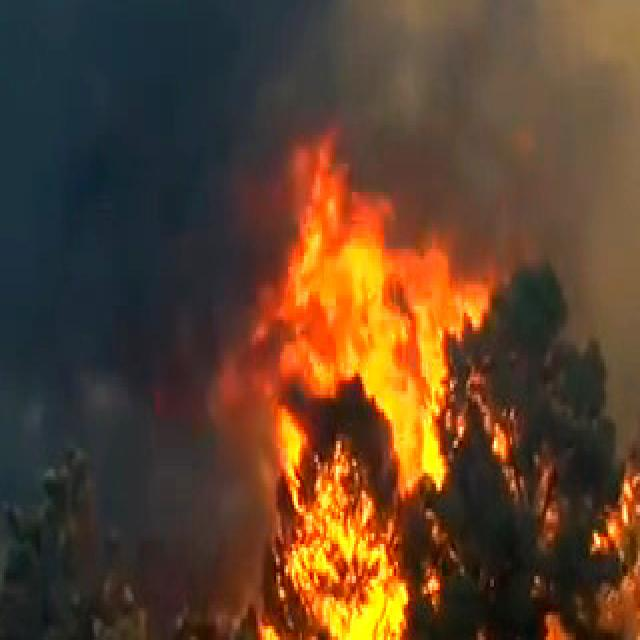fire: (224, 156, 470, 640)
smoke: (0, 0, 528, 146)
